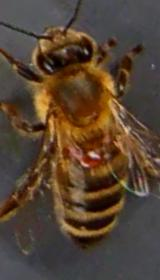varroa_mite: (72, 140, 111, 172)
